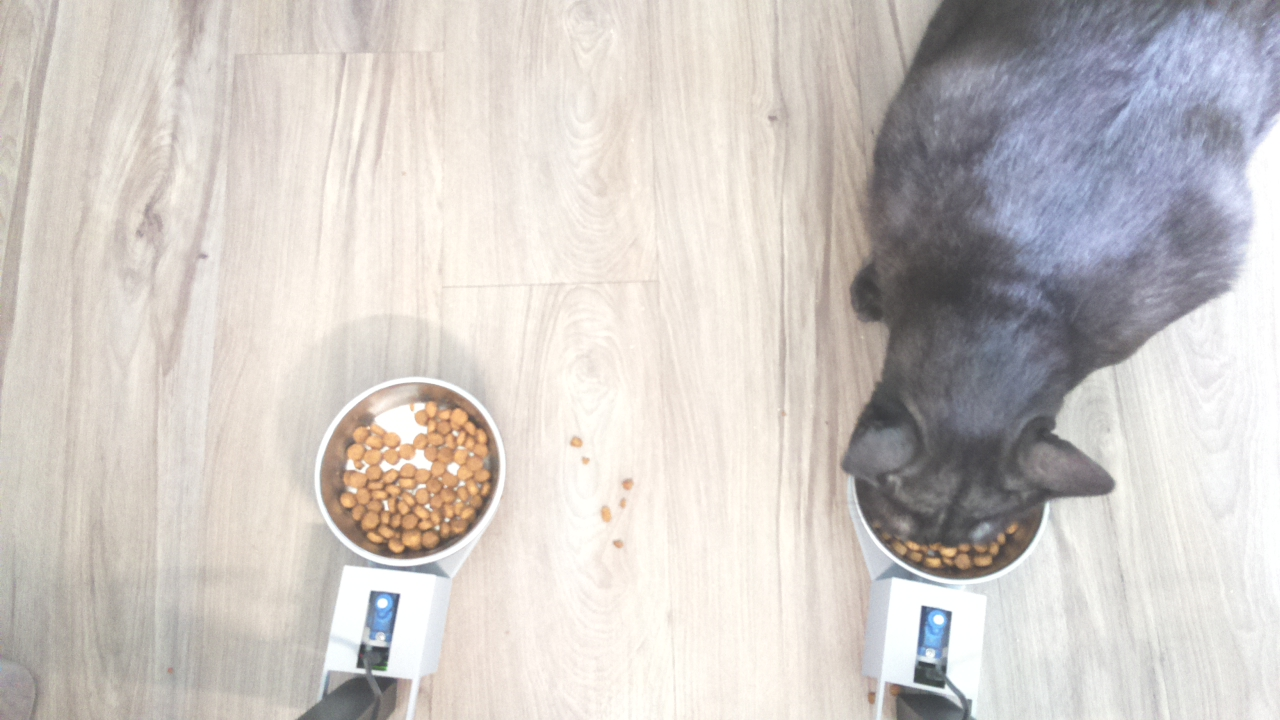open_bowl: (312, 371, 508, 571)
saki_eating: (833, 309, 1121, 586)
